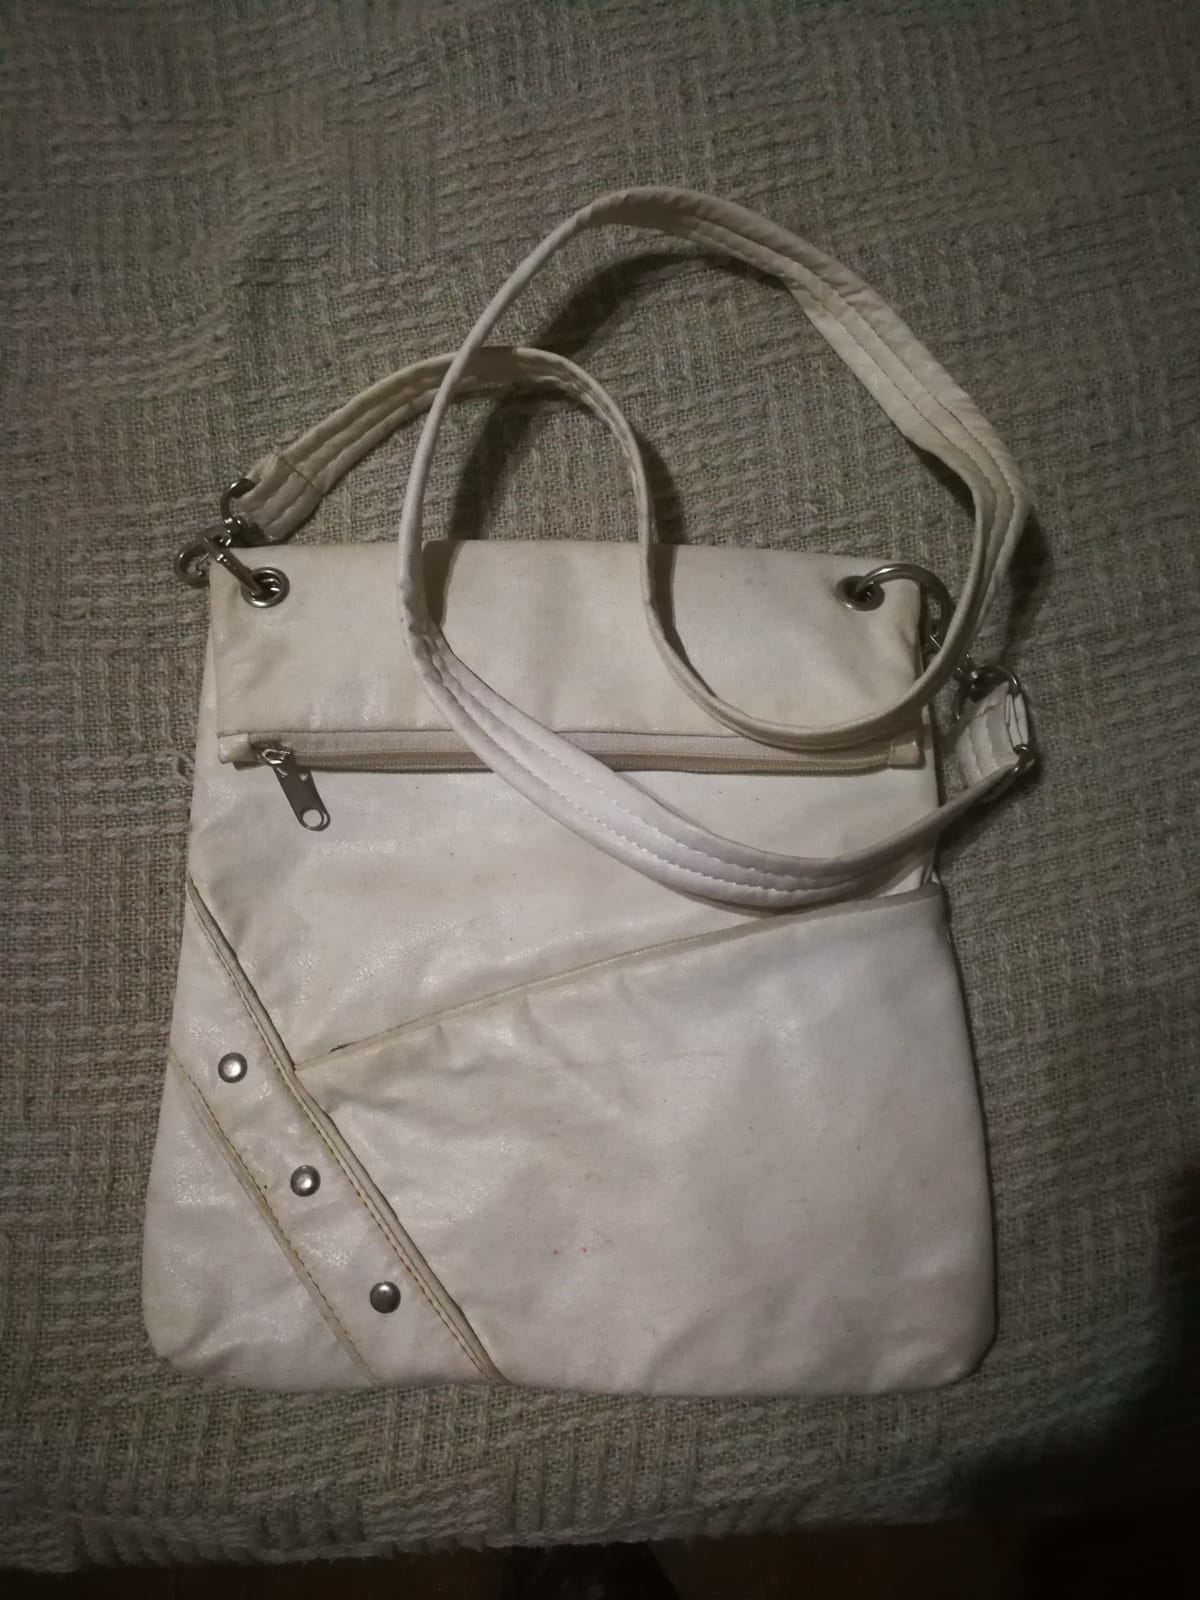cartera: (205, 307, 995, 1400)
cuero: (547, 1026, 829, 1288)
